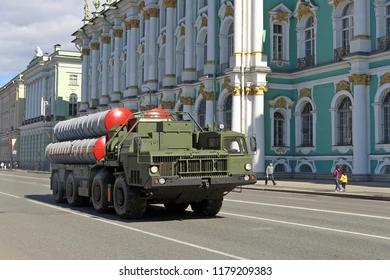MIL_SAM_TEL: (43, 109, 257, 223)
